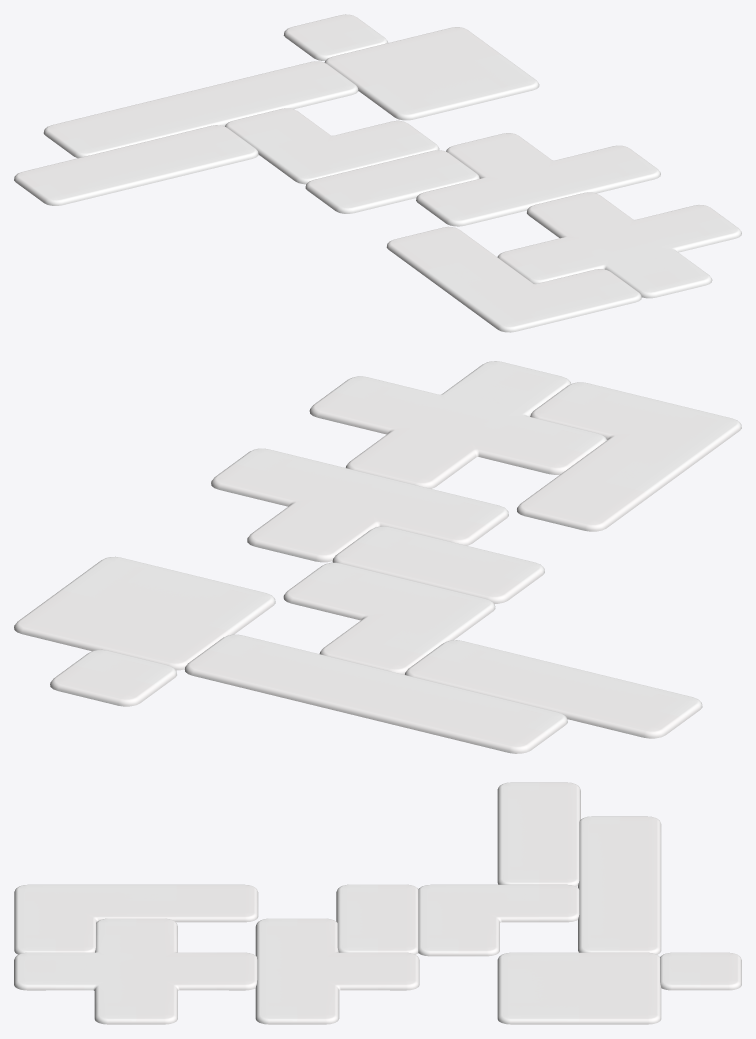
Rendered from highlight.fbx.
The picture shows the model from 3 angles, top to bottom: view 1: azimuth 30°, elevation 25°; view 2: azimuth 150°, elevation 25°; view 3: azimuth 270°, elevation 25°; orthographic projection. The views are drawn at different scales.
Parts seen in each view (by area): view 1: Dual_42, Dual_20, Dual_62, Dual_24, Dual_18, Dual_21, Dual_19, Dual_22, Dual_23; view 2: Dual_42, Dual_18, Dual_62, Dual_20, Dual_24, Dual_21, Dual_19, Dual_22, Dual_23; view 3: Dual_42, Dual_62, Dual_24, Dual_20, Dual_18, Dual_19, Dual_21, Dual_22, Dual_23.
Boxes of the visible parts, x1=… form: Dual_42: x1=497, y1=192, x2=741, y2=298; Dual_20: x1=386, y1=226, x2=641, y2=332; Dual_62: x1=416, y1=133, x2=660, y2=226; Dual_24: x1=324, y1=27, x2=539, y2=120; Dual_18: x1=43, y1=61, x2=358, y2=158; Dual_21: x1=14, y1=125, x2=258, y2=205; Dual_19: x1=225, y1=108, x2=439, y2=184; Dual_22: x1=305, y1=150, x2=479, y2=213; Dual_23: x1=283, y1=14, x2=388, y2=60; Dual_42: x1=309, y1=361, x2=606, y2=488; Dual_18: x1=184, y1=634, x2=567, y2=753; Dual_62: x1=211, y1=448, x2=508, y2=562; Dual_20: x1=517, y1=382, x2=741, y2=531; Dual_24: x1=14, y1=556, x2=275, y2=670; Dual_21: x1=405, y1=640, x2=702, y2=738; Dual_19: x1=283, y1=562, x2=495, y2=674; Dual_22: x1=332, y1=526, x2=544, y2=603; Dual_23: x1=50, y1=649, x2=176, y2=706; Dual_42: x1=14, y1=918, x2=257, y2=1024; Dual_62: x1=255, y1=918, x2=419, y2=1024; Dual_24: x1=497, y1=952, x2=661, y2=1024; Dual_20: x1=14, y1=884, x2=258, y2=954; Dual_18: x1=578, y1=816, x2=661, y2=954; Dual_19: x1=418, y1=884, x2=579, y2=956; Dual_21: x1=497, y1=782, x2=580, y2=886; Dual_22: x1=336, y1=884, x2=418, y2=954; Dual_23: x1=660, y1=952, x2=741, y2=990.
Size of the model in its own units: 7.04 by 0.057 by 9.04.
1 material, 1 textured.
